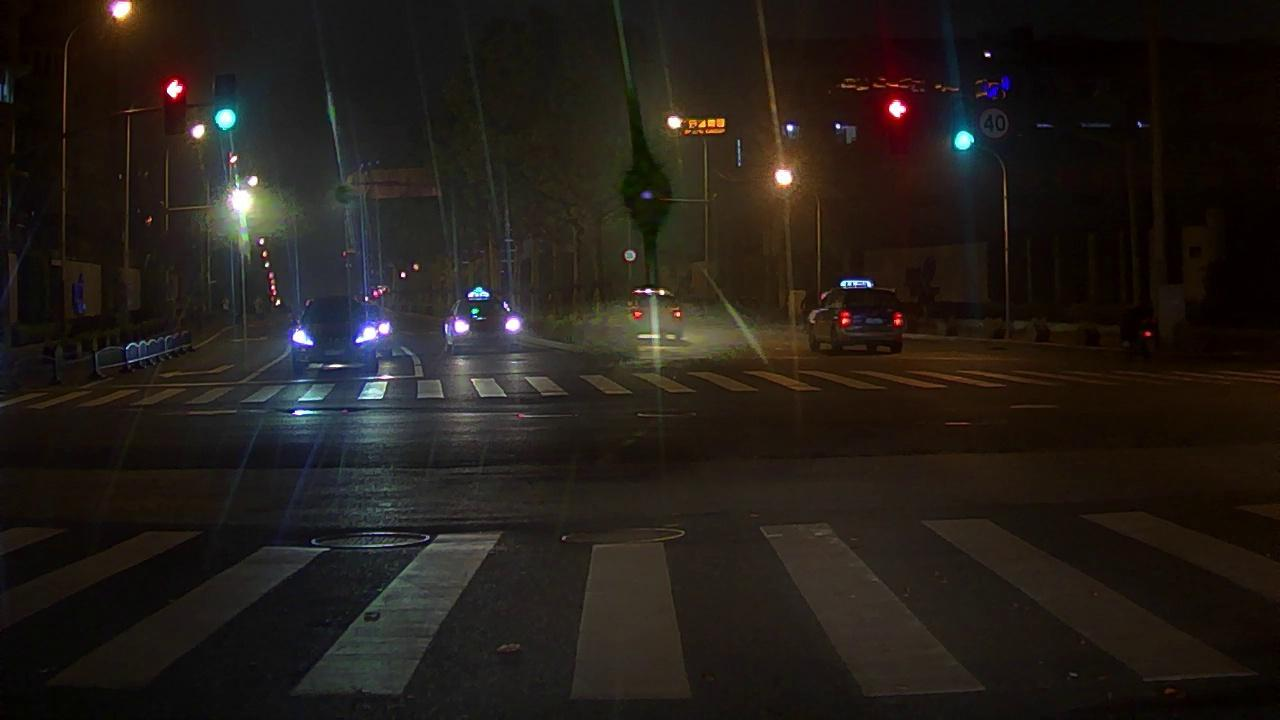traffic_light: (214, 76, 236, 132), (889, 95, 909, 149), (166, 75, 185, 131), (955, 131, 974, 150)
